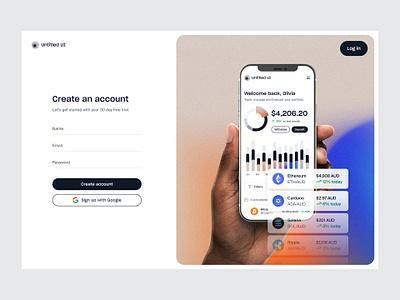button: (53, 195, 144, 208), (52, 179, 144, 191), (339, 41, 369, 58)
label: (48, 94, 135, 106)
